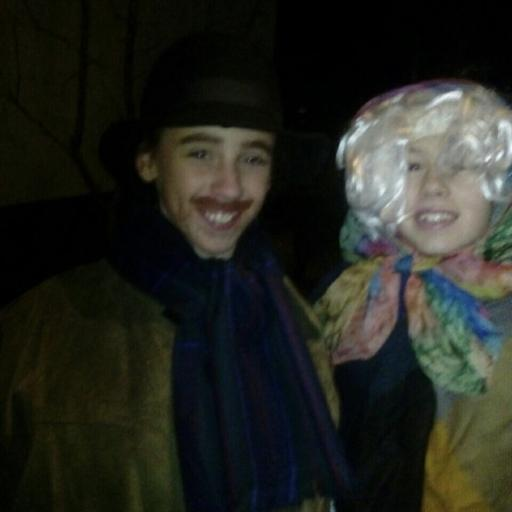masa: (166, 133, 280, 254)
